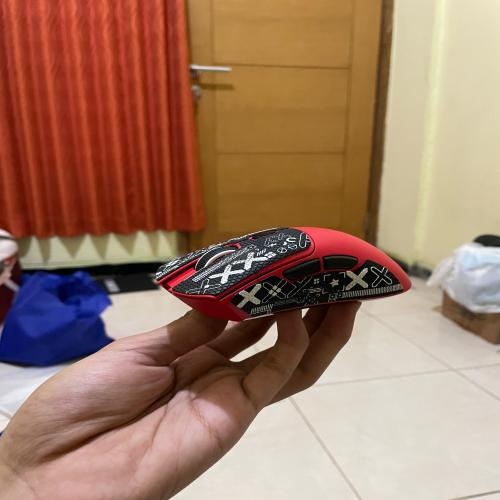Mouse: (139, 212, 436, 326)
